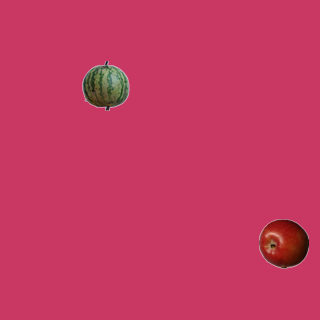Apple Braeburn: (258, 218, 308, 268)
Watermelon: (80, 60, 130, 110)
